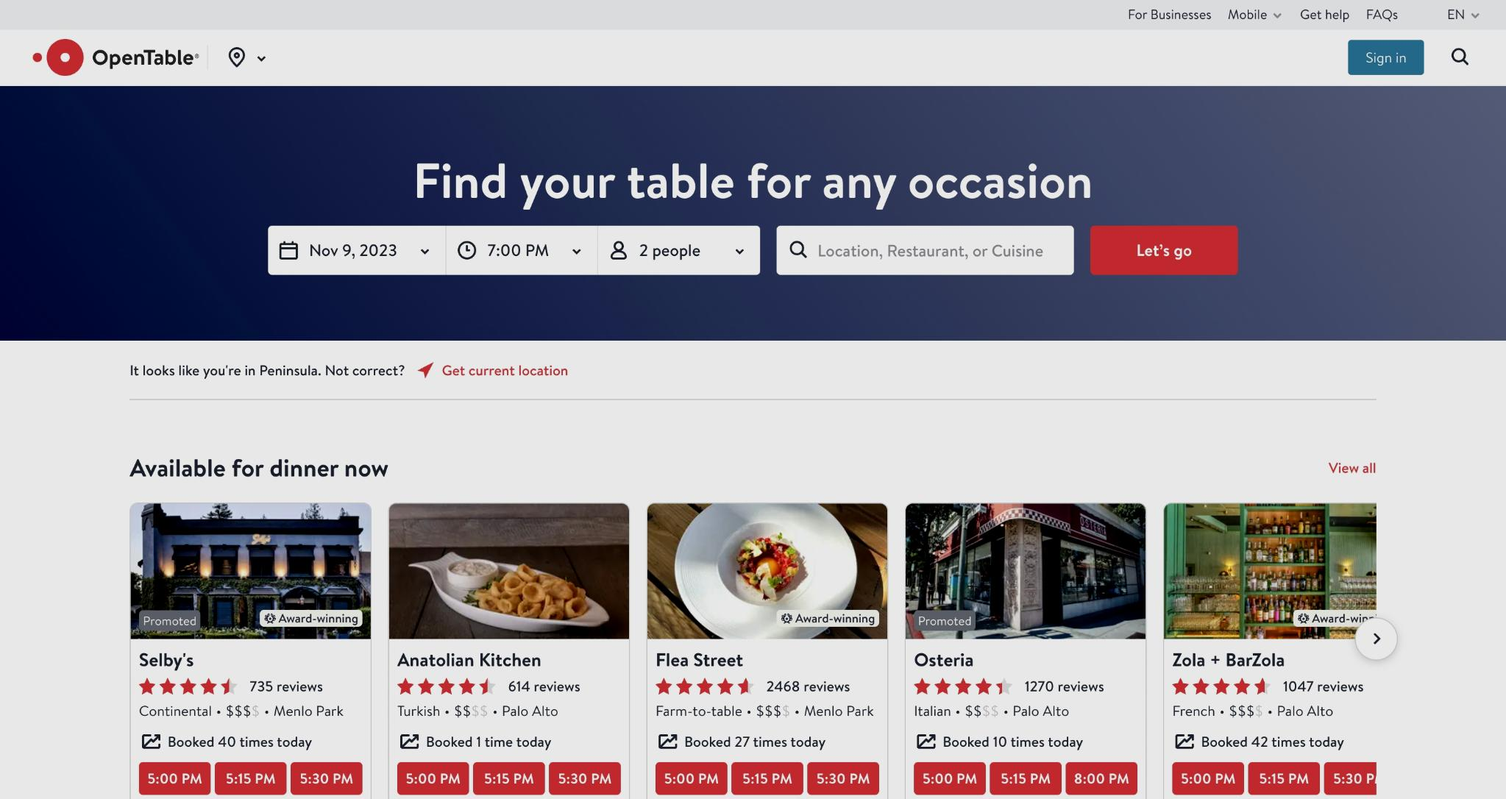webelement: (16, 225, 1489, 274), (130, 503, 370, 799), (388, 503, 628, 799), (647, 503, 887, 799), (906, 503, 1146, 799), (1164, 503, 1404, 799), (130, 503, 370, 638), (388, 503, 628, 638), (647, 503, 887, 638), (906, 503, 1146, 638), (1164, 503, 1404, 638), (129, 357, 1376, 381), (1423, 503, 1506, 799), (388, 103, 716, 148), (388, 193, 716, 238), (388, 238, 716, 283), (388, 283, 716, 328), (388, 373, 716, 418), (388, 418, 716, 463), (388, 464, 716, 509), (388, 509, 716, 554), (388, 554, 716, 599), (388, 599, 716, 644), (60, 103, 386, 148), (60, 193, 386, 238), (60, 238, 386, 283), (60, 283, 386, 328), (60, 373, 386, 418), (60, 418, 386, 463), (60, 464, 386, 509), (60, 509, 386, 554), (60, 554, 386, 599), (60, 599, 386, 644), (60, 644, 386, 689), (60, 690, 386, 735), (60, 735, 386, 780), (777, 225, 1074, 274), (388, 148, 716, 192), (388, 329, 716, 373), (60, 148, 386, 192), (60, 329, 386, 373), (267, 225, 445, 274), (598, 225, 760, 274), (446, 225, 596, 274), (1090, 225, 1237, 274), (60, 780, 386, 799), (32, 38, 198, 75), (129, 359, 404, 379), (139, 729, 362, 753), (397, 729, 620, 753), (656, 729, 879, 753), (914, 729, 1137, 753), (1172, 729, 1395, 753), (413, 357, 567, 381), (1347, 39, 1423, 74), (214, 761, 286, 794), (290, 761, 362, 794), (549, 761, 621, 794), (807, 761, 879, 794), (1172, 761, 1244, 794), (1431, 761, 1503, 794), (1127, 0, 1211, 28), (139, 761, 210, 794), (397, 761, 468, 794), (473, 761, 544, 794), (656, 761, 727, 794), (732, 761, 803, 794), (914, 761, 985, 794), (990, 761, 1061, 794), (1066, 761, 1137, 794), (1248, 761, 1319, 794), (1325, 761, 1396, 794), (1430, 728, 1506, 753), (1355, 617, 1398, 659), (656, 700, 742, 720), (767, 675, 850, 695), (259, 610, 362, 626), (777, 610, 879, 626), (1294, 610, 1396, 626), (1283, 675, 1364, 695), (264, 700, 344, 720), (794, 700, 873, 720), (1024, 675, 1103, 695), (139, 677, 237, 693), (397, 677, 495, 693), (656, 677, 754, 693), (914, 677, 1012, 693), (1172, 677, 1270, 693), (1228, 0, 1283, 28), (249, 675, 322, 695), (139, 700, 211, 720), (508, 675, 579, 695), (1300, 0, 1349, 28), (1432, 45, 1489, 69), (491, 700, 557, 720), (1003, 700, 1069, 720), (1267, 700, 1332, 720), (1430, 677, 1506, 693), (139, 610, 200, 629), (914, 610, 975, 629), (1431, 610, 1492, 629), (224, 45, 272, 69), (1431, 700, 1482, 720), (1447, 0, 1481, 28), (1328, 457, 1376, 476), (443, 700, 487, 720), (746, 700, 790, 720), (955, 700, 999, 720), (1367, 0, 1398, 28), (216, 700, 259, 720), (397, 700, 440, 720), (1219, 700, 1262, 720), (1173, 700, 1215, 720), (914, 700, 951, 720), (1448, 45, 1473, 69), (1485, 700, 1506, 720), (471, 700, 488, 720), (982, 700, 999, 720), (251, 700, 259, 720), (781, 700, 789, 720), (1255, 700, 1263, 720)
